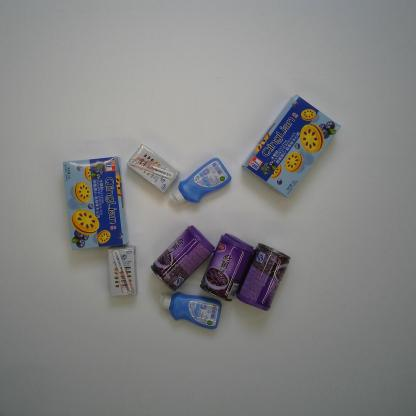Canned Food: (149, 224, 216, 292), (199, 232, 256, 302), (236, 242, 292, 312)
Dessert: (240, 93, 342, 199), (62, 155, 129, 252)
Milk: (126, 144, 180, 194), (107, 244, 139, 298)
Personal Hygiene: (169, 156, 232, 206), (158, 290, 223, 330)
